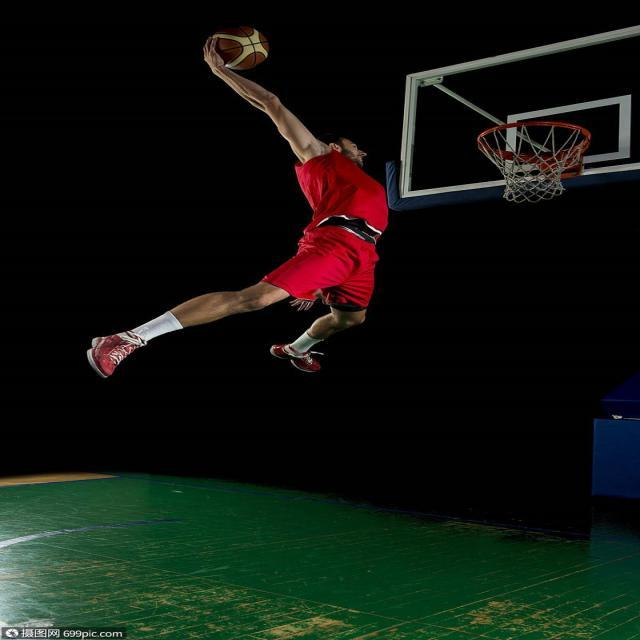rim: (210, 28, 274, 71)
